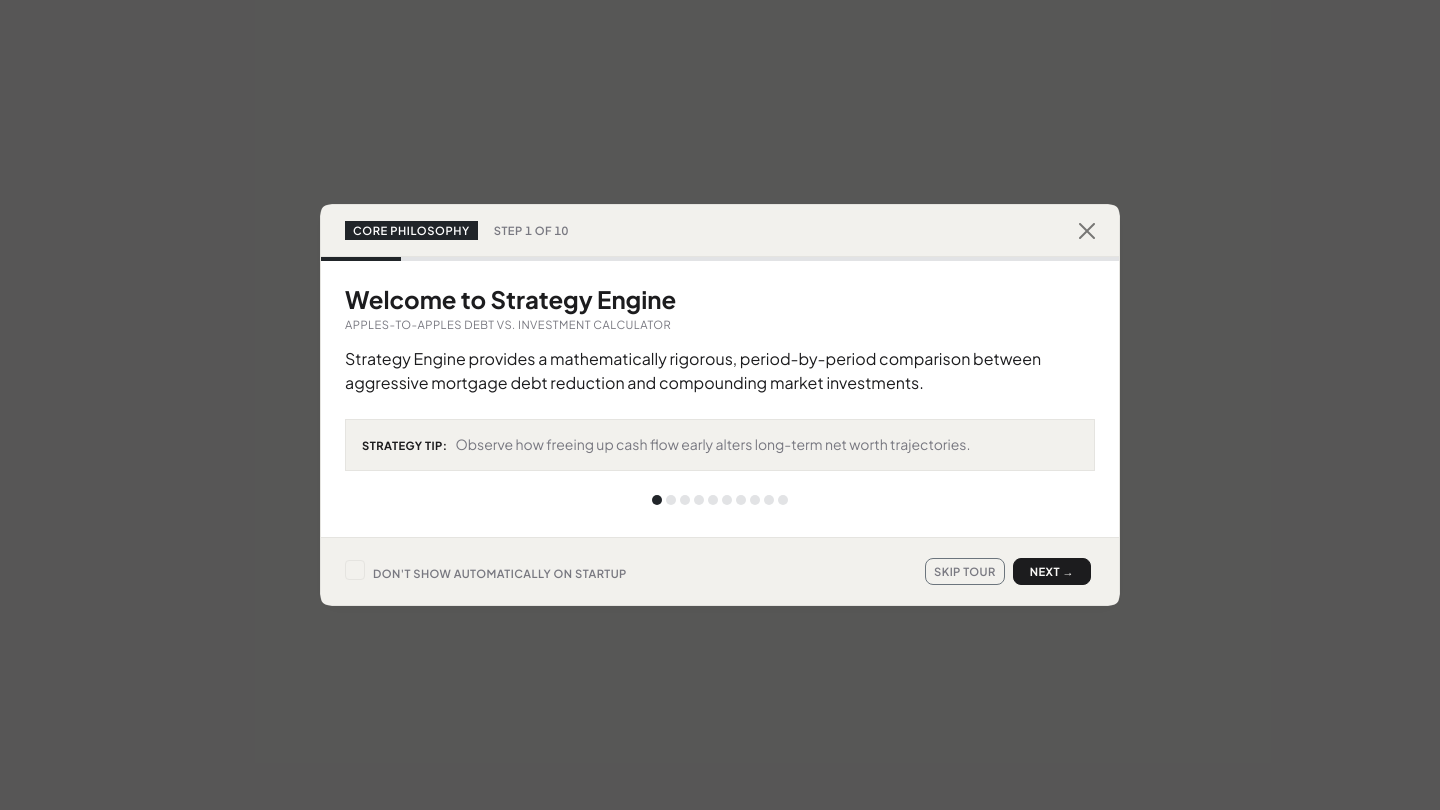
Scenario: OnboardingModal Component › navigates next and back through tour steps
Click the button "Next →" at (1052, 572), box [1013,558,1091,585]
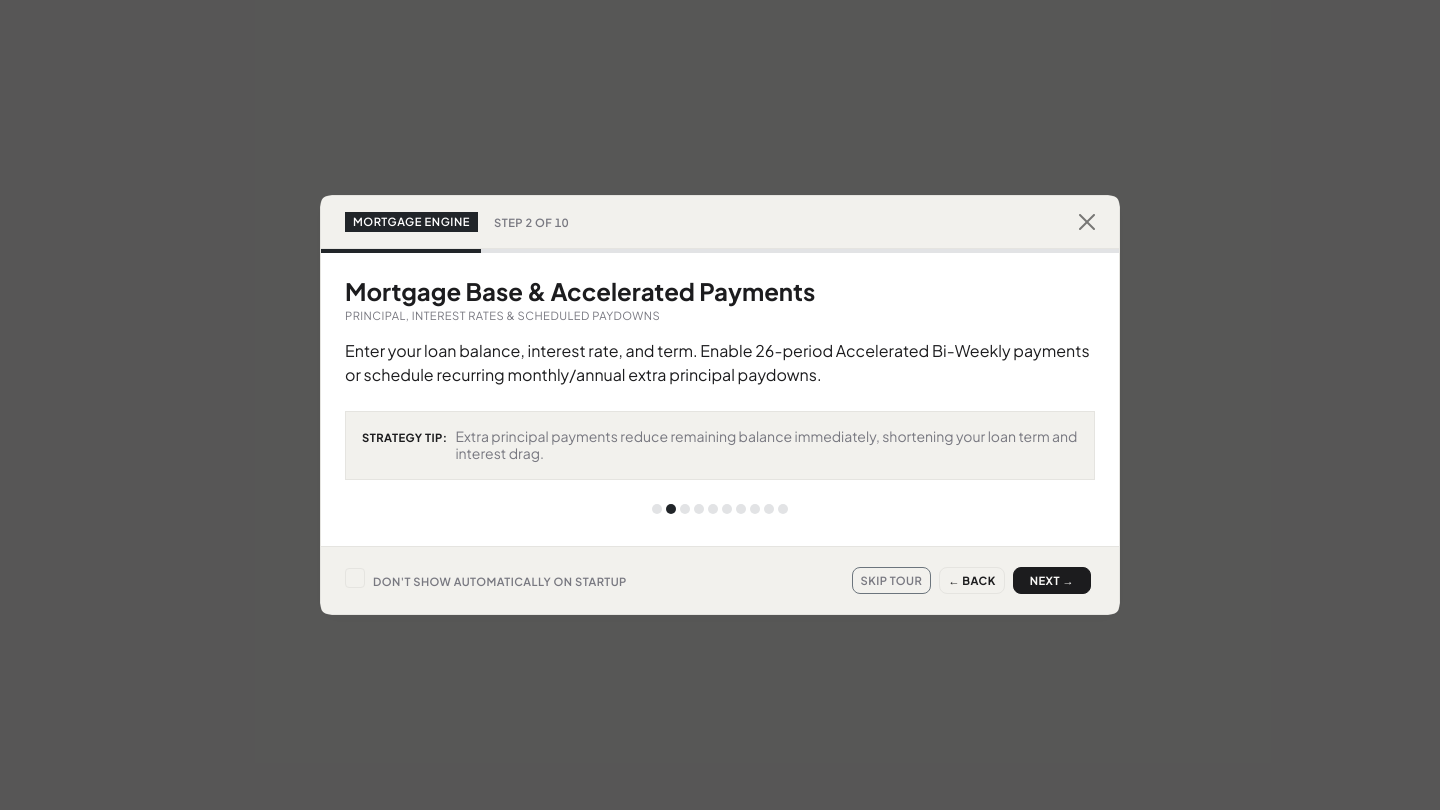
Now the heading "Mortgage Base & Accelerated Payments" is shown, box [345,276,815,306]
Click the button "← Back" at (972, 580), box [939,567,1005,594]
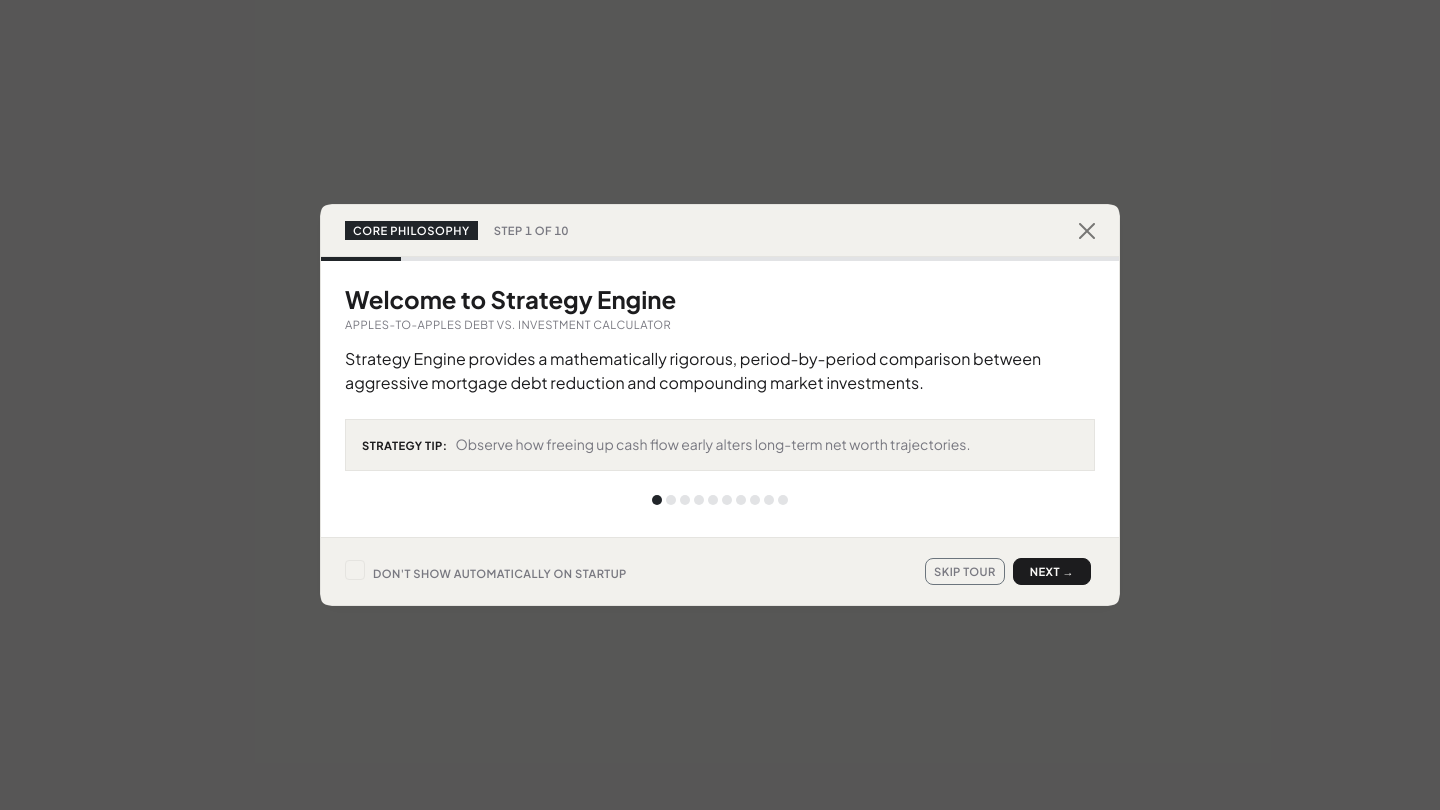
Now the heading "Welcome to Strategy Engine" is shown, box [345,284,676,314]
